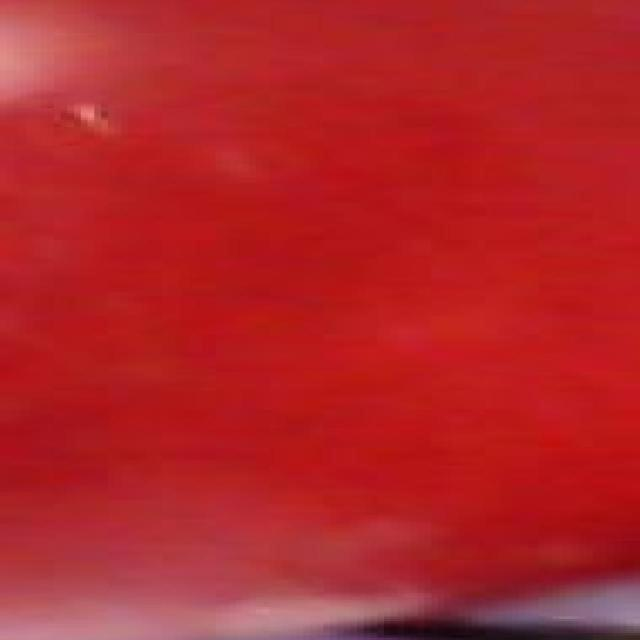Healthy Fruit: (2, 6, 427, 394)
